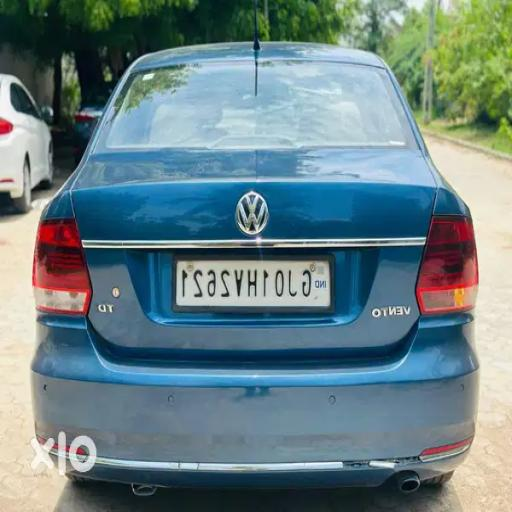License: (171, 254, 337, 313)
